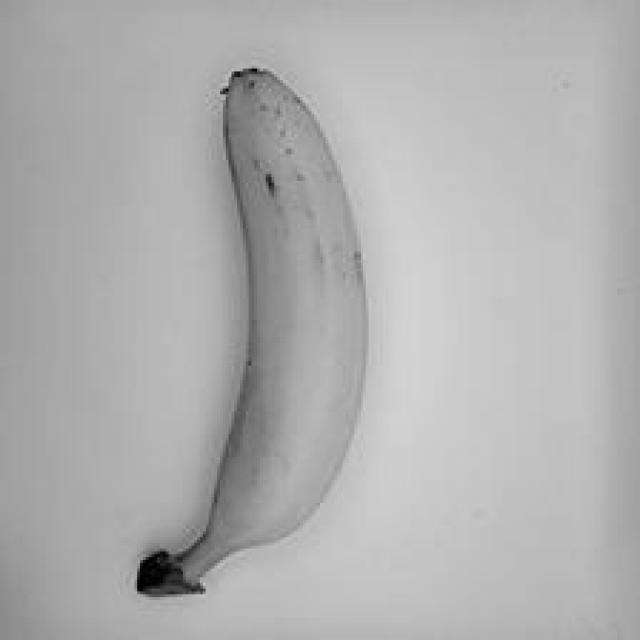Ripe: (110, 45, 392, 610)
